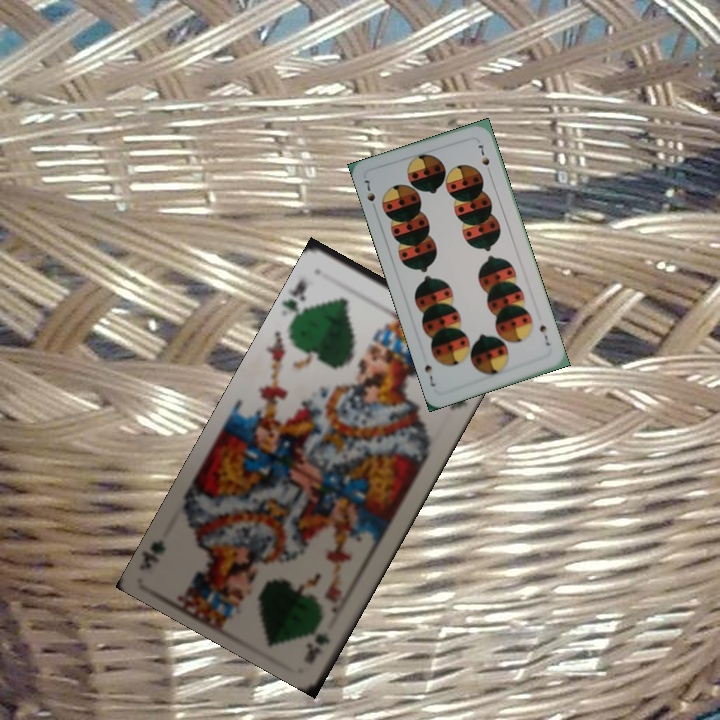GK: (281, 275, 310, 324), (305, 627, 333, 659)
S7: (360, 176, 379, 214), (535, 321, 553, 348)
